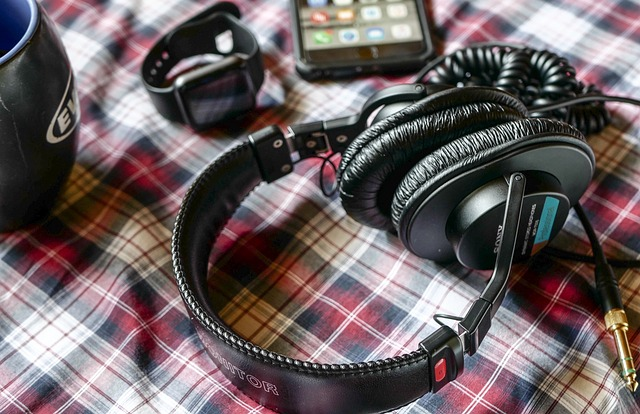headphones: (172, 83, 596, 414)
